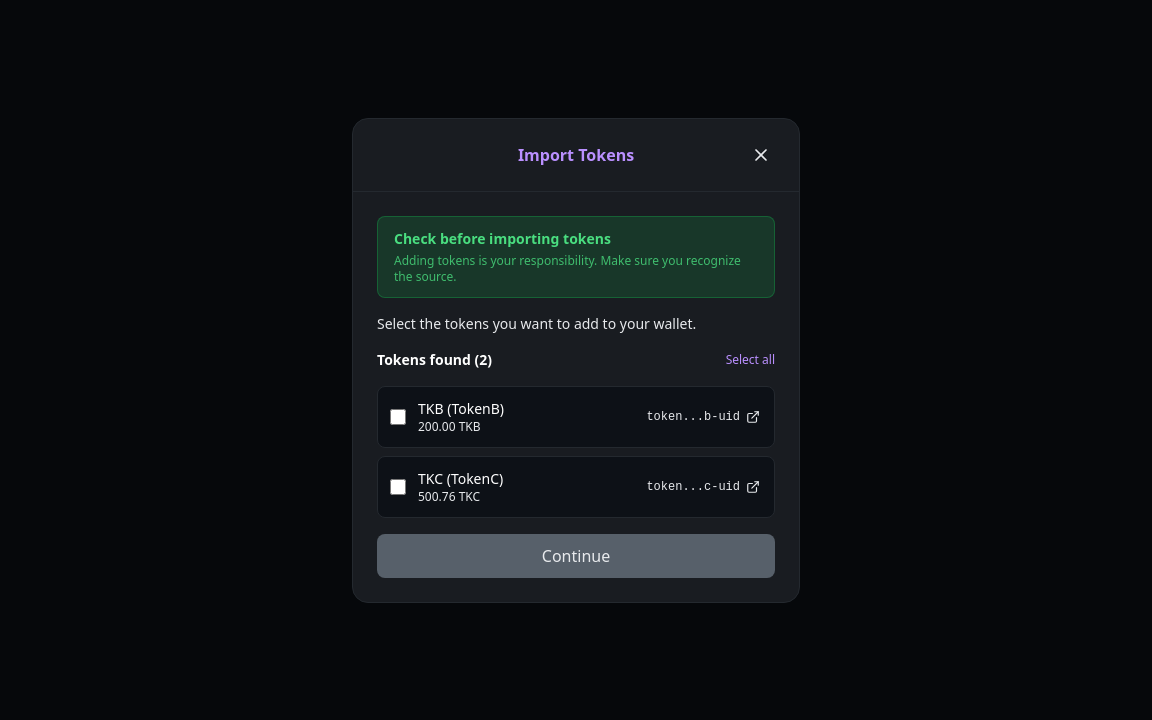
it: ImportTokensDialog › should go back to select step when Cancel is clicked on confirm
The width and height of the screenshot is (1152, 720).
Expected: the text "TKB (TokenB)" is shown, [418,398,504,418]
Click the checkbox labelled "TKB (TokenB) 200.00 TKB token...b-uid": {"x": 398, "y": 416} [390,408,406,424]
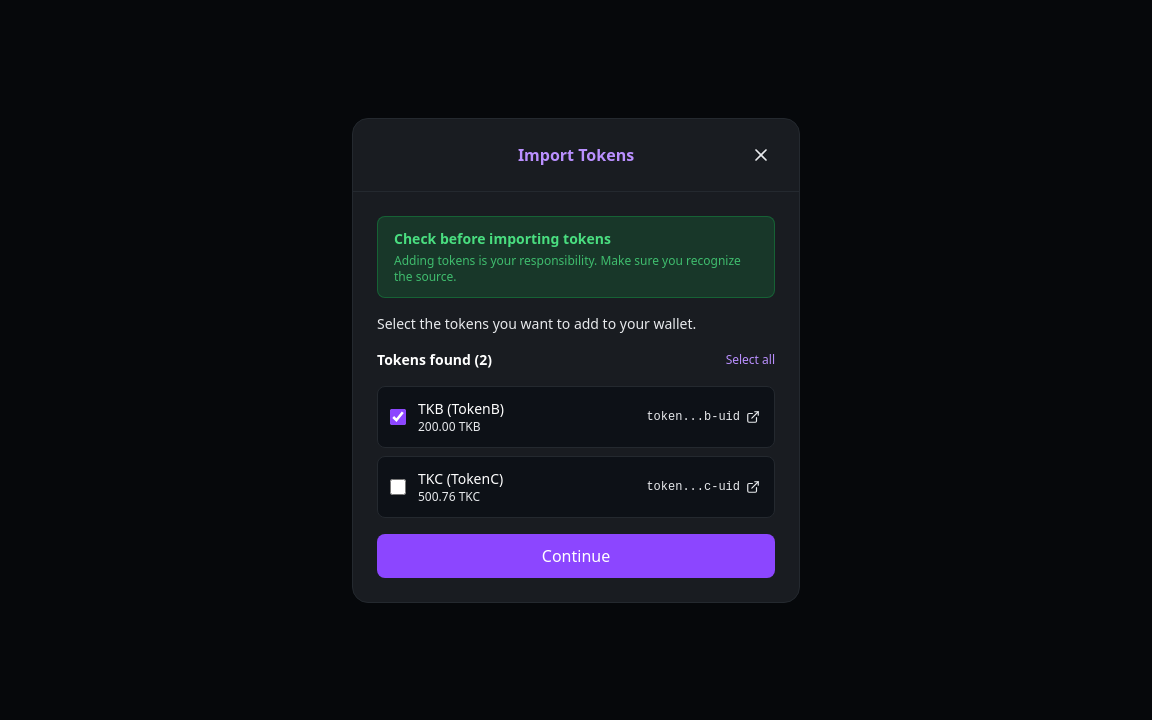
Click the button "Continue": {"x": 576, "y": 556} [377,534,775,578]
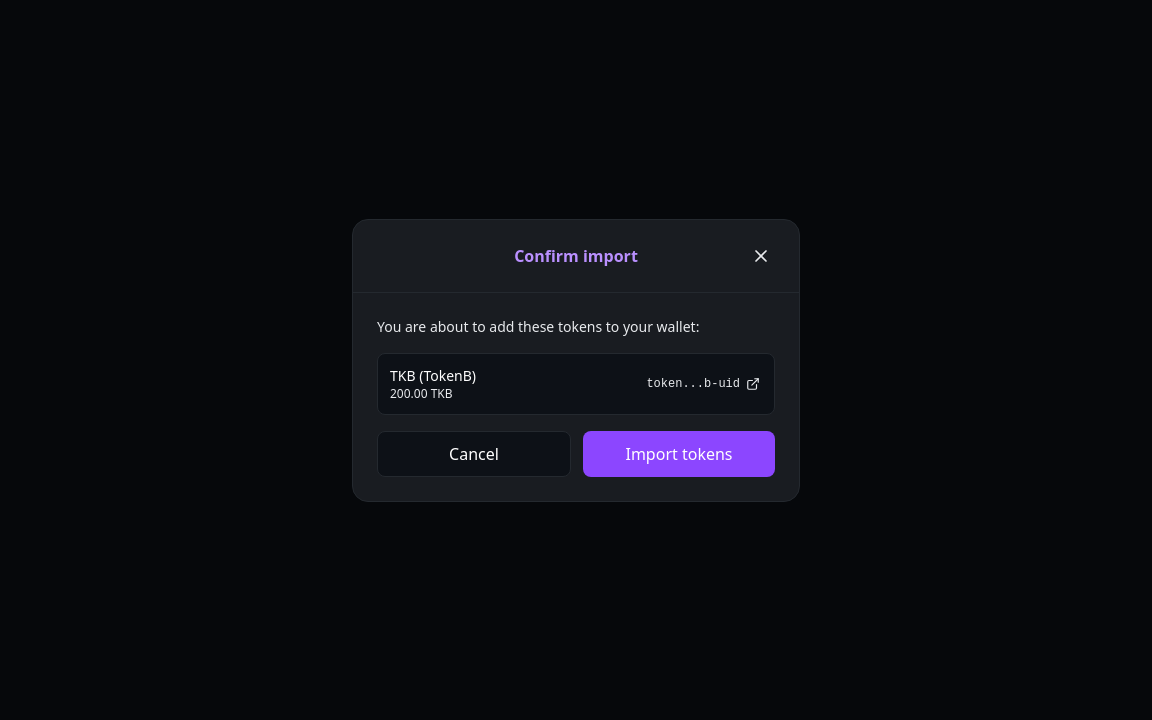
Now the heading "Confirm import" is shown, box [514,244,638,268]
Click the button "Cancel": {"x": 474, "y": 454} [377,430,571,476]
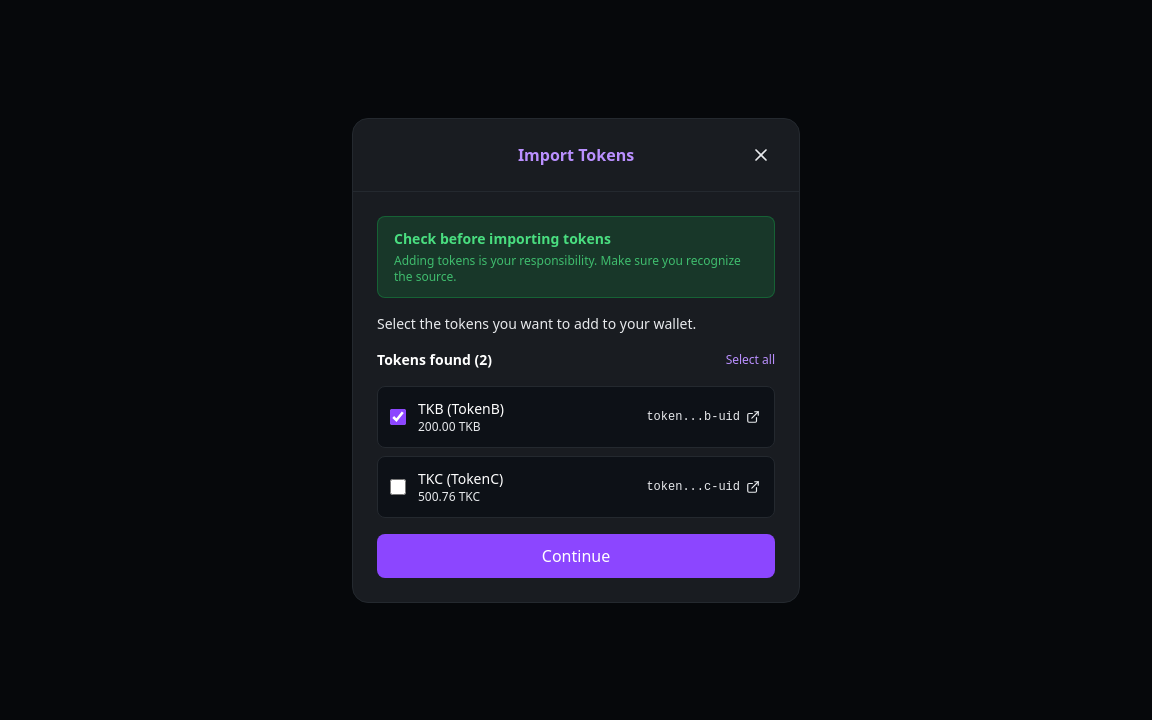
Now the heading "Tokens found (2)" is shown, box [377,350,492,370]
